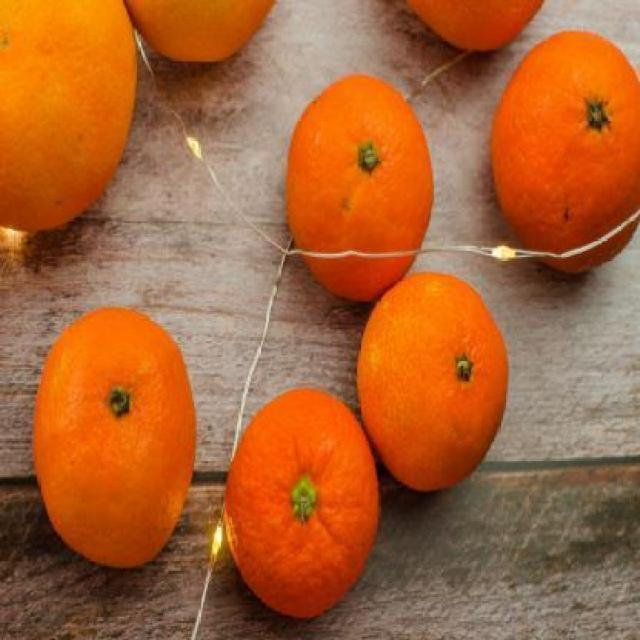Jeruk Sudah Matang: (37, 304, 194, 564), (493, 32, 639, 272), (356, 268, 509, 494), (228, 388, 377, 616), (0, 0, 142, 234), (288, 73, 434, 290), (124, 0, 276, 68), (402, 0, 546, 54)
